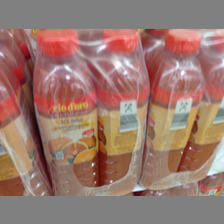juice: (32, 30, 102, 191), (141, 30, 205, 187), (97, 30, 152, 186)
